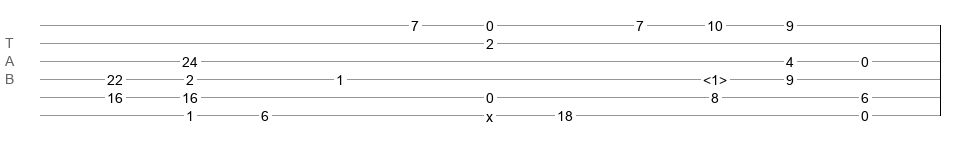0: (486, 18, 494, 28), (486, 90, 494, 100), (861, 108, 869, 118), (861, 54, 869, 64)
1: (186, 108, 194, 118), (336, 72, 344, 82)
10: (707, 18, 723, 28)
16: (107, 90, 123, 100), (182, 90, 198, 100)
18: (557, 108, 573, 118)
2: (186, 72, 194, 82), (486, 36, 494, 46)
22: (107, 72, 123, 82)
24: (182, 54, 198, 64)
4: (786, 54, 794, 64)
6: (261, 108, 269, 118), (861, 90, 869, 100)
7: (411, 18, 419, 28), (636, 18, 644, 28)
8: (711, 90, 719, 100)
9: (786, 18, 794, 28), (786, 72, 794, 82)
harmonic: (703, 72, 727, 82)
x: (486, 109, 493, 117)
